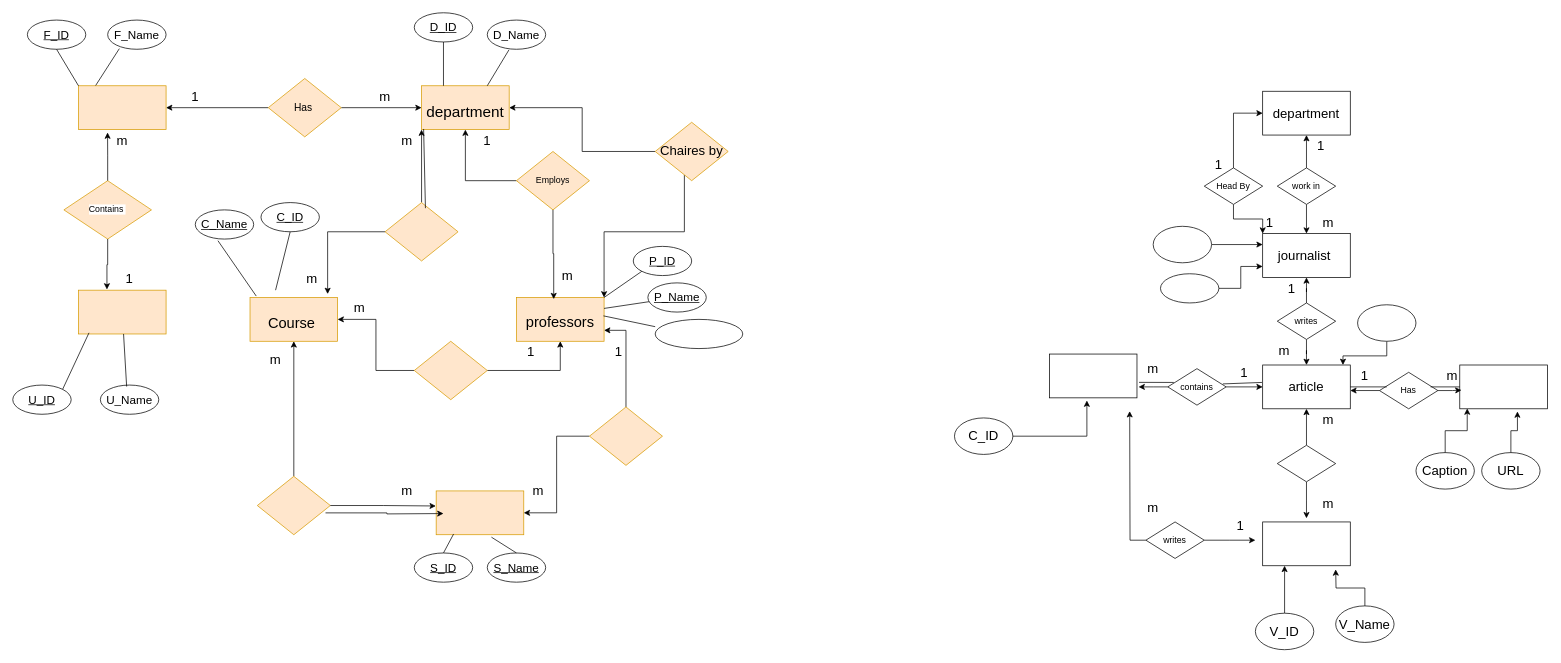
Image size: 1561x663. Some labels were removed from this diagram. Here are the shapes that lost their labels. From the top down, the centre of each, then its label:
At point 122,107: "Faculty".
At point 421,231: "added".
At point 1182,244: "J-ID".
At point 1189,288: "J_Name".
At point 122,311: "University".
At point 1386,322: "publish Date".
At point 698,334: "HaveReasrch".
At point 450,370: "Teaches".
At point 1093,375: "comments".
At point 1503,386: "images".
At point 625,435: "advisor".
At point 1306,463: "Reads".
At point 293,505: "Enroll In".
At point 479,512: "Student".
At point 1306,543: "visitors".
